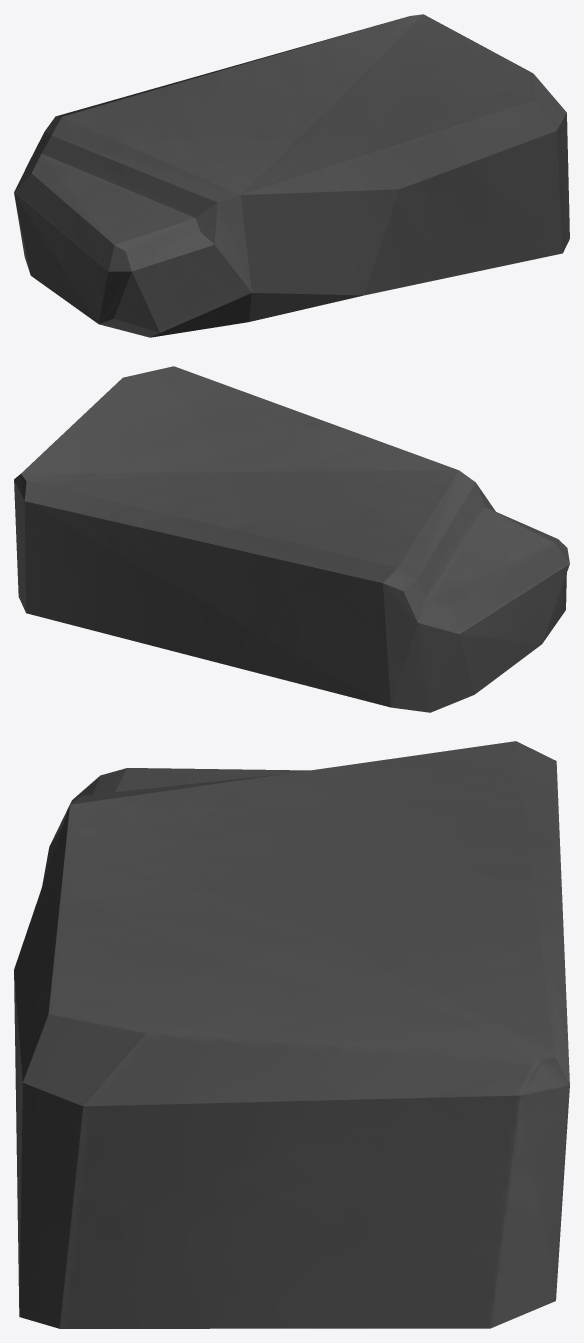
The model's file is rock_4.glb.
3 renders of one model, top to bottom at view 1: azimuth 30°, elevation 25°; view 2: azimuth 150°, elevation 25°; view 3: azimuth 270°, elevation 25°, orthographic. The views are drawn at different scales.
Parts seen in each view (by area): view 1: Rock_4; view 2: Rock_4; view 3: Rock_4.
Part boxes in pixels (left/top/right/bottom): Rock_4: left=14, top=14, right=569, bottom=337; Rock_4: left=14, top=366, right=569, bottom=712; Rock_4: left=14, top=741, right=569, bottom=1328.
Size of the model in its own units: 2.25 by 0.755 by 1.28.
1 material, 1 textured.
